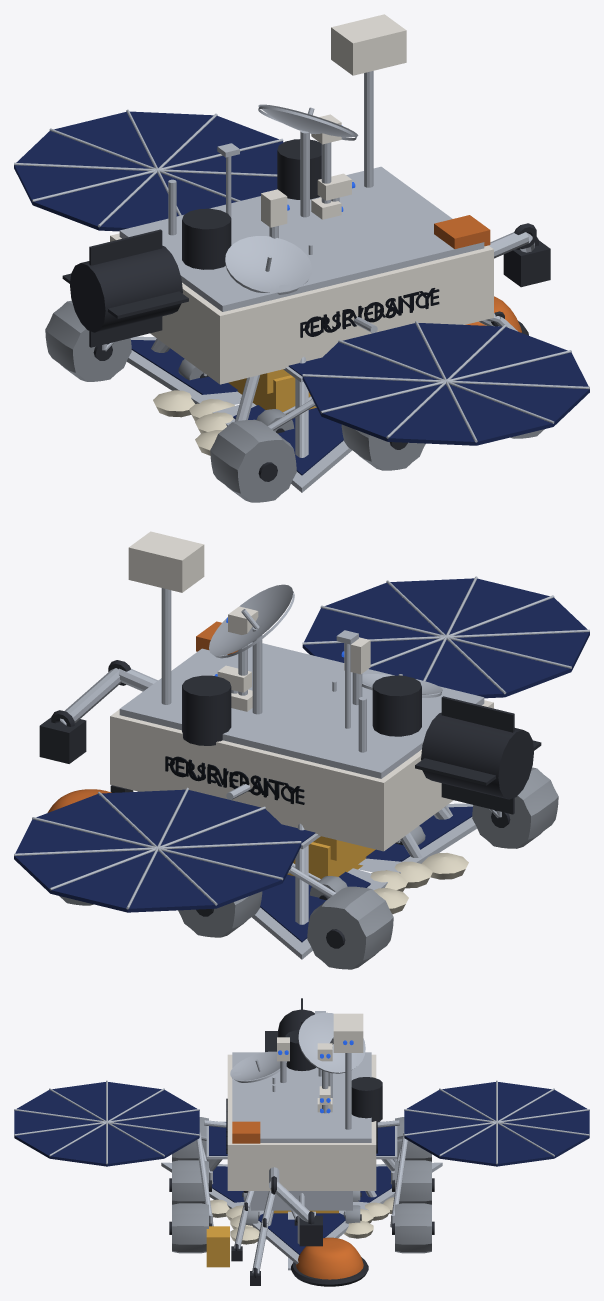
File: rovers.glb
The picture shows the model from 3 angles, top to bottom: view 1: azimuth 30°, elevation 25°; view 2: azimuth 150°, elevation 25°; view 3: azimuth 270°, elevation 25°; orthographic projection. The views are drawn at different scales.
Visible parts, largest first — view 1: Rover_curiosity, Rover_phoenix, Rover_viking1, Rover_pathfinder, Rover_spirit, Rover_insight, Rover_perseverance; view 2: Rover_curiosity, Rover_phoenix, Rover_viking1, Rover_pathfinder, Rover_spirit, Rover_perseverance, Rover_insight; view 3: Rover_curiosity, Rover_phoenix, Rover_pathfinder, Rover_viking1, Rover_insight, Rover_spirit, Rover_perseverance.
Boxes of the visible parts, <box> form: Rover_curiosity: <box>45,14,550,502</box>; Rover_phoenix: <box>14,109,589,445</box>; Rover_viking1: <box>151,104,517,457</box>; Rover_pathfinder: <box>127,336,352,492</box>; Rover_spirit: <box>178,173,355,433</box>; Rover_insight: <box>311,197,528,335</box>; Rover_perseverance: <box>300,289,439,337</box>; Rover_curiosity: <box>39,531,558,969</box>; Rover_phoenix: <box>14,576,589,912</box>; Rover_viking1: <box>182,584,452,924</box>; Rover_pathfinder: <box>252,803,477,959</box>; Rover_spirit: <box>214,665,425,900</box>; Rover_perseverance: <box>165,756,304,804</box>; Rover_insight: <box>47,689,252,812</box>; Rover_curiosity: <box>169,998,434,1253</box>; Rover_phoenix: <box>14,1043,589,1285</box>; Rover_pathfinder: <box>161,1162,442,1270</box>; Rover_viking1: <box>206,1011,397,1261</box>; Rover_insight: <box>206,1098,368,1286</box>; Rover_spirit: <box>206,1086,397,1225</box>; Rover_perseverance: <box>226,1098,377,1210</box>.
Size of the model in its own units: 3.88 by 2.66 by 6.2.
